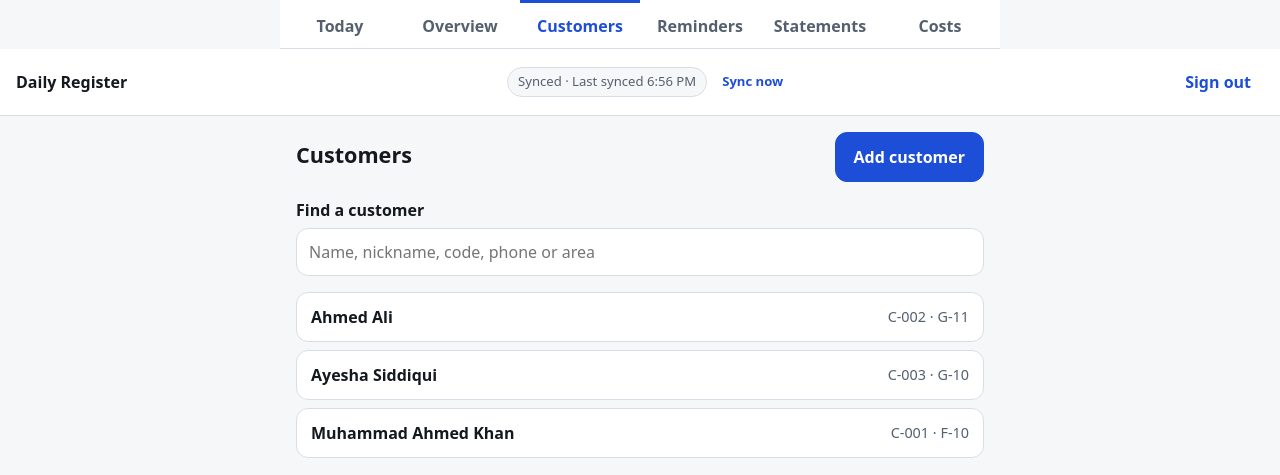
Test case: searching from the customer list › shows the alias that matched, so two Ahmeds can be told apart
Check: the text "Ayesha Siddiqui" is shown, box x1=311 y1=363 x2=437 y2=387
Type "Ahmed bhai" into the search field labelled "Find a customer" at [640, 252], box x1=296 y1=228 x2=984 y2=276
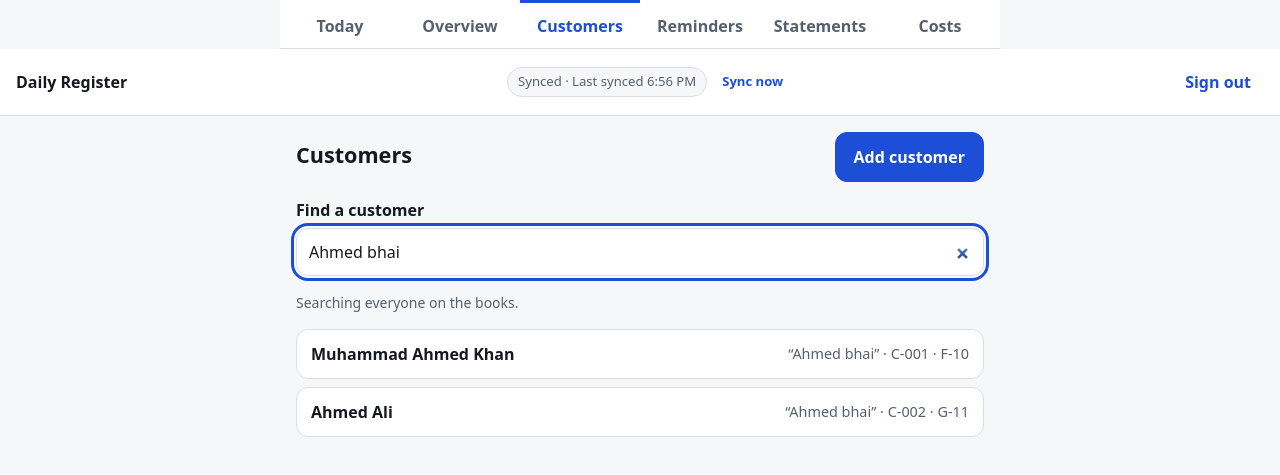
Check: the text "Muhammad Ahmed Khan" is shown, box x1=311 y1=342 x2=514 y2=366
Check: the text "“Ahmed bhai” · C-001 · F-10" is shown, box x1=788 y1=343 x2=969 y2=365
Check: the text "“Ahmed bhai” · C-002 · G-11" is shown, box x1=785 y1=401 x2=969 y2=423
